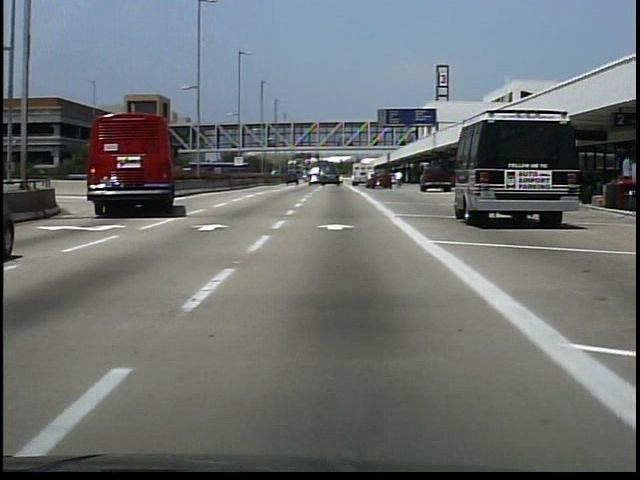person: (392, 169, 405, 191)
